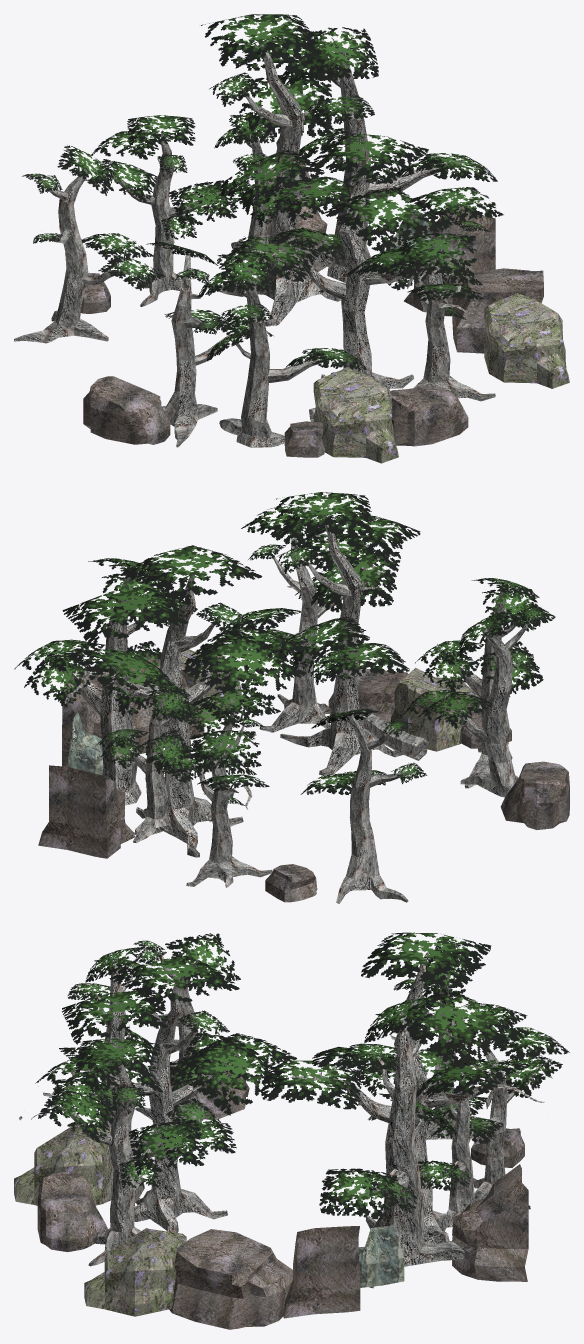
Rendered from sm_meda_terrain_objects.gltf.
The picture shows the model from 3 angles, top to bottom: view 1: azimuth 30°, elevation 25°; view 2: azimuth 150°, elevation 25°; view 3: azimuth 270°, elevation 25°; orthographic projection. The views are drawn at different scales.
Parts seen in each view (by area): view 1: Tree_4, Tree_3, Tree_9, Tree_2, Tree_1, Tree_7, Tree_5, Rock_7, Rock_2, Tree_6, Rock_4, Rock_8 (+6 smaller); view 2: Tree_4, Tree_3, Tree_9, Tree_2, Tree_1, Tree_6, Rock_6, Tree_5, Tree_7, Tree_8, Rock_4, Rock_2 (+8 smaller); view 3: Tree_4, Tree_3, Tree_1, Tree_9, Rock_8, Tree_2, Rock_6, Rock_7, Rock_10, Tree_6, Rock_2, Rock_3 (+6 smaller).
Part boxes in pixels (x1,y1,x2,y2): Tree_4: [201, 14, 370, 326]; Tree_3: [227, 133, 461, 388]; Tree_9: [280, 27, 497, 289]; Tree_2: [84, 115, 257, 306]; Tree_1: [366, 187, 503, 401]; Tree_7: [198, 251, 366, 447]; Tree_5: [14, 145, 165, 343]; Rock_7: [484, 293, 569, 388]; Rock_2: [313, 367, 398, 463]; Tree_6: [146, 242, 273, 447]; Rock_4: [83, 376, 170, 444]; Rock_8: [452, 268, 543, 353]; Tree_4: [62, 545, 308, 857]; Tree_3: [275, 492, 420, 775]; Tree_9: [14, 558, 197, 805]; Tree_2: [145, 688, 280, 887]; Tree_1: [219, 504, 386, 732]; Tree_6: [402, 605, 548, 797]; Rock_6: [38, 765, 134, 858]; Tree_5: [300, 708, 427, 903]; Tree_7: [415, 578, 555, 788]; Tree_8: [95, 681, 202, 842]; Rock_4: [500, 761, 569, 829]; Rock_2: [391, 667, 480, 751]; Tree_4: [260, 932, 544, 1244]; Tree_3: [38, 956, 296, 1232]; Tree_1: [19, 1038, 236, 1266]; Tree_9: [319, 996, 465, 1288]; Rock_8: [169, 1229, 293, 1329]; Tree_2: [430, 1003, 569, 1209]; Rock_6: [452, 1164, 528, 1281]; Rock_7: [84, 1228, 186, 1316]; Rock_10: [283, 1226, 360, 1318]; Tree_6: [126, 933, 246, 1135]; Rock_2: [14, 1124, 113, 1205]; Rock_3: [37, 1171, 107, 1251].
Size of the model in its own units: 33.11 by 19.36 by 32.64.
Materials: 32 (32 with a texture image).
